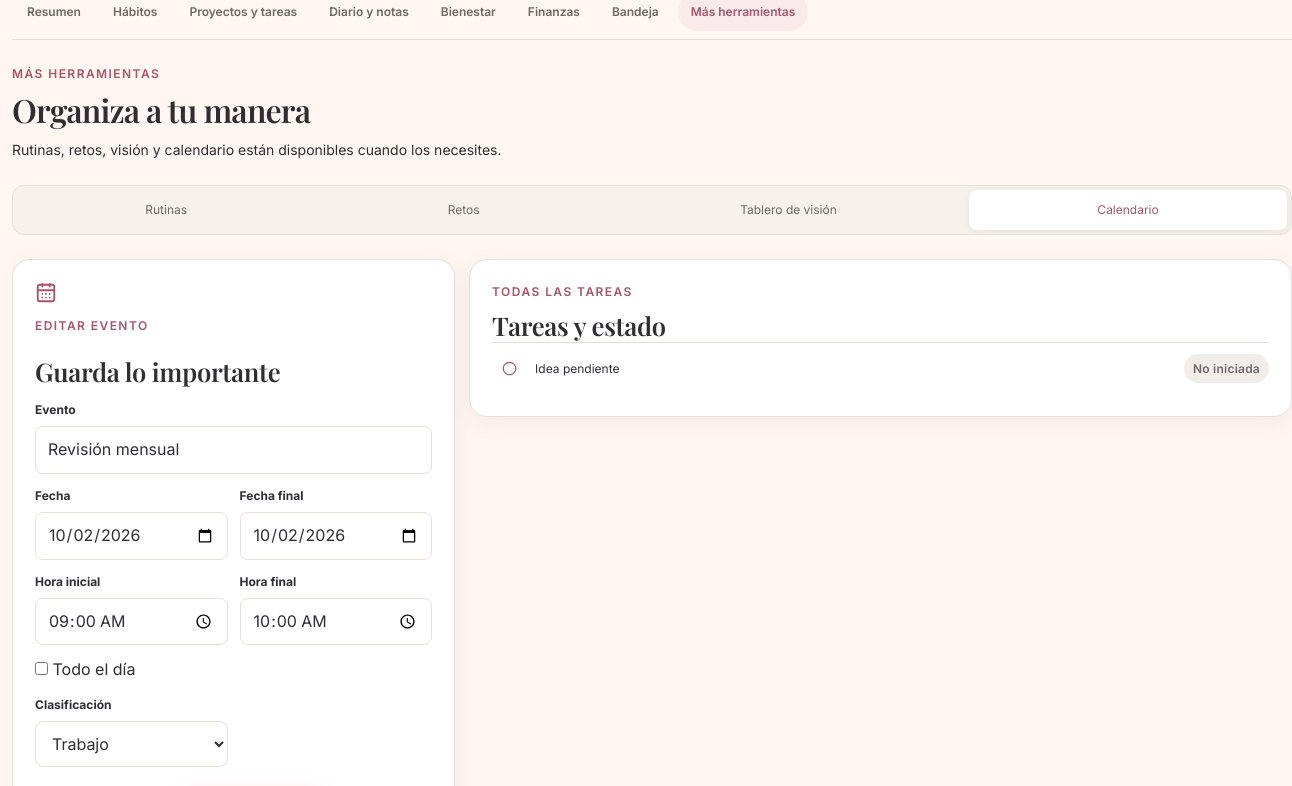
LifeHub saved editors › locks event controls until a failed save settles and retains the submitted draft
Replace the text in the field labelled "Evento" with "Revisión ajustada" at (234, 450), box 35,426 -> 432,474
(page scrolled)
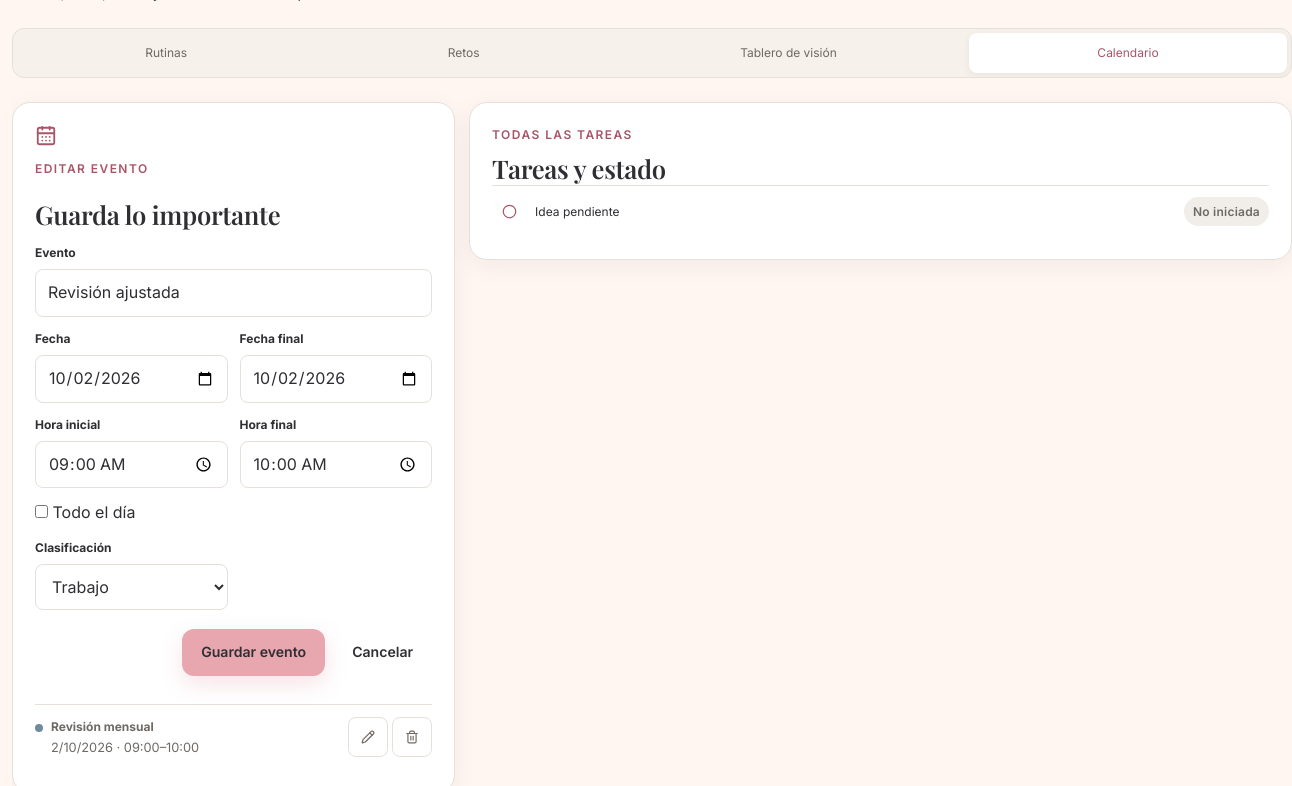
Click the button "Guardar evento".
click(254, 653)  # box 182,629 -> 325,676
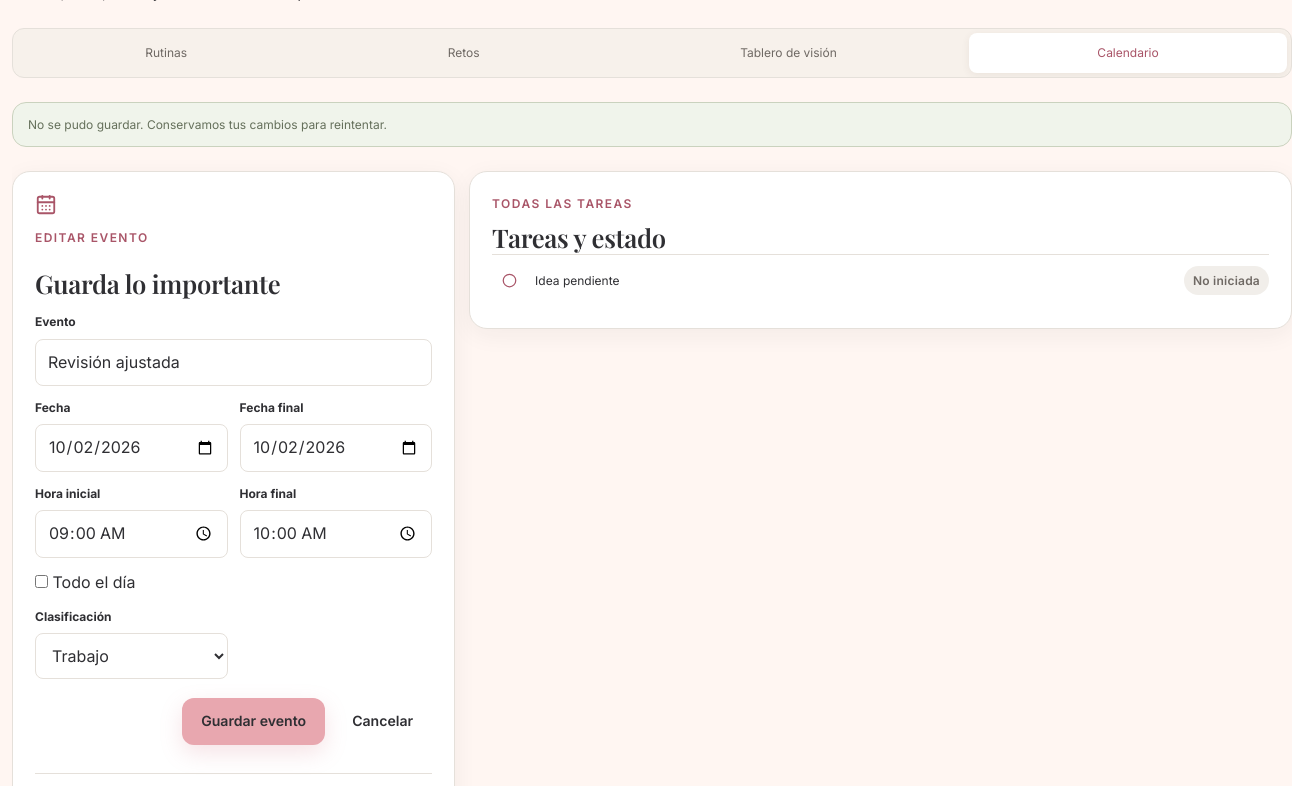
Expected: the message shows "Conservamos", 28,117 -> 387,132
